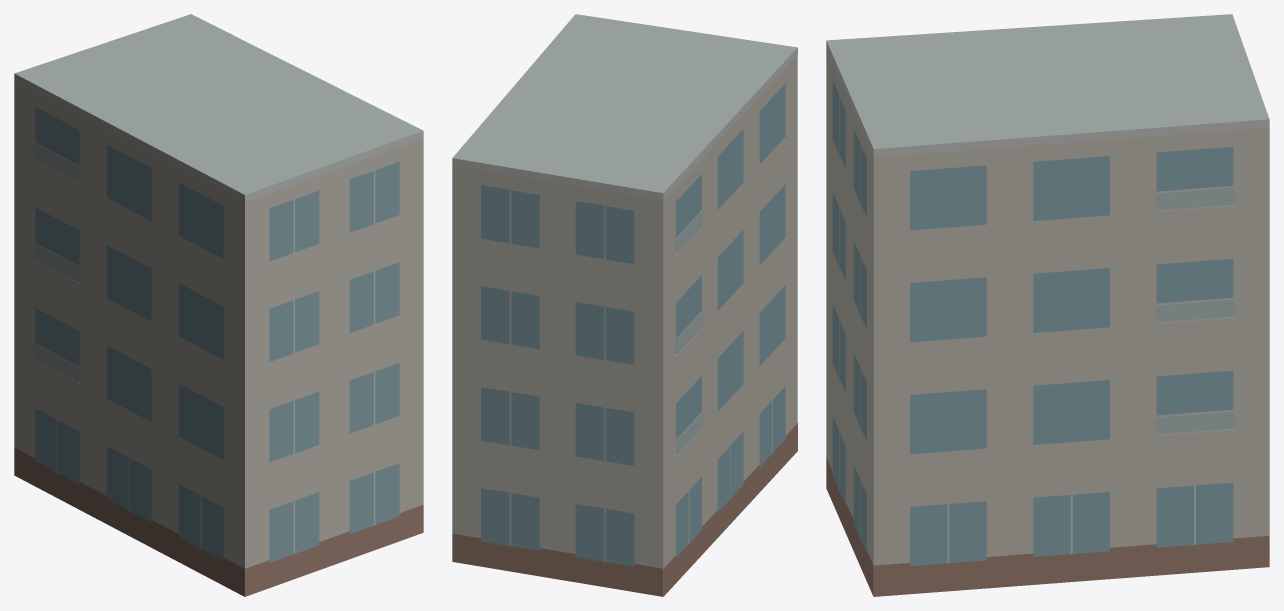
The model's file is survey-upis-32749982.glb.
The picture shows the model from 3 angles, left to right: view 1: azimuth 30°, elevation 25°; view 2: azimuth 150°, elevation 25°; view 3: azimuth 270°, elevation 25°; orthographic projection. The views are drawn at different scales.
Visible parts, largest first — view 1: survey-upis-32749982.tmp; view 2: survey-upis-32749982.tmp; view 3: survey-upis-32749982.tmp.
Boxes of the visible parts, x1,y1,x2,y2 form: survey-upis-32749982.tmp: [14, 14, 423, 596]; survey-upis-32749982.tmp: [452, 14, 797, 596]; survey-upis-32749982.tmp: [826, 14, 1269, 596].
Bounding box in the file's own units: 8.55 × 13.2 × 11.85.
